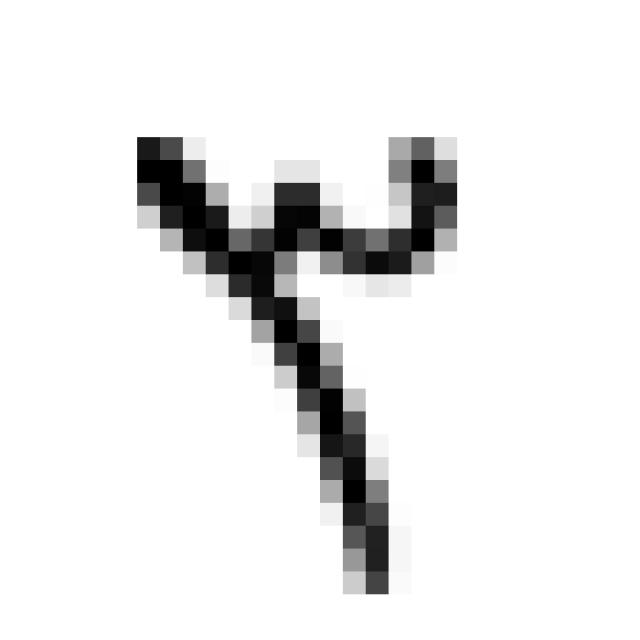3 -three-: (112, 98, 476, 610)
